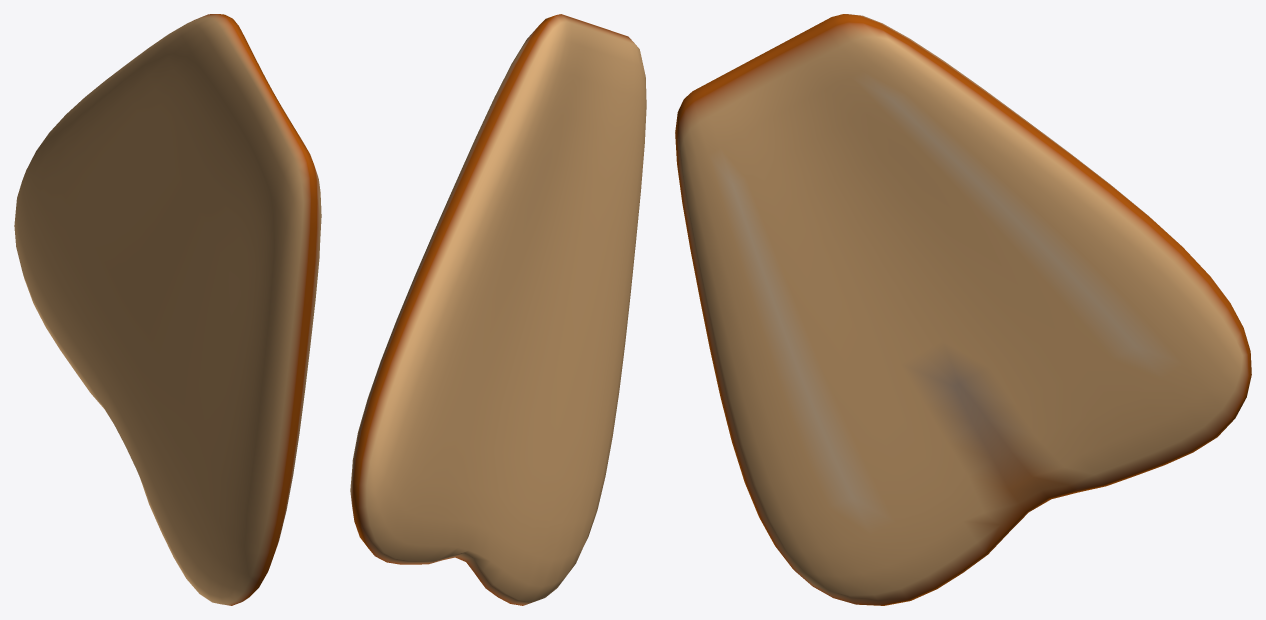
The model's file is Enemy Puffer Right Fin.fbx.
The picture shows the model from 3 angles, left to right: view 1: azimuth 30°, elevation 25°; view 2: azimuth 150°, elevation 25°; view 3: azimuth 270°, elevation 25°; orthographic projection. The views are drawn at different scales.
Parts seen in each view (by area): view 1: PufferRightFin; view 2: PufferRightFin; view 3: PufferRightFin.
Boxes of the visible parts, <box> form: PufferRightFin: <box>14,14,321,605</box>; PufferRightFin: <box>350,14,646,605</box>; PufferRightFin: <box>675,14,1251,605</box>.
Size of the model in its own units: 0.0371 by 0.4588 by 0.4051.
